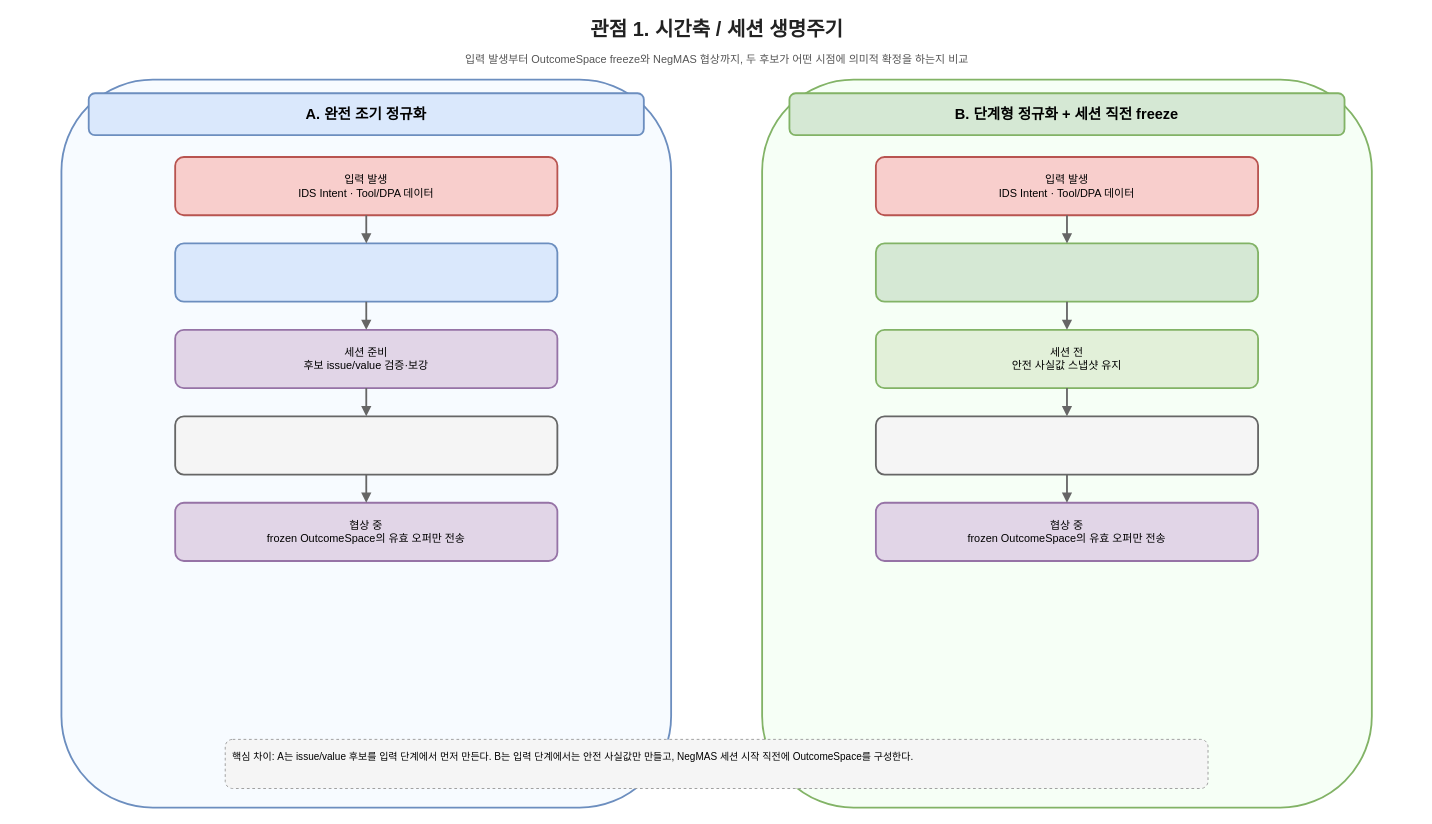
This 1432x824 diagram has some shape labels left out. The centre of each missing label's shape, as x and y in pixels:
세션 시작 전 OutcomeSpace freeze: (366,445)
세션 시작 직전 승인 issue/value 선택 + Validator 검증 + freeze: (1067,445)
입력 직후 원본 안전화 + 승인 issue/value 후보 생성: (366,272)
입력 직후 원본 안전화, PII는 Vault로 이동: (1067,272)
